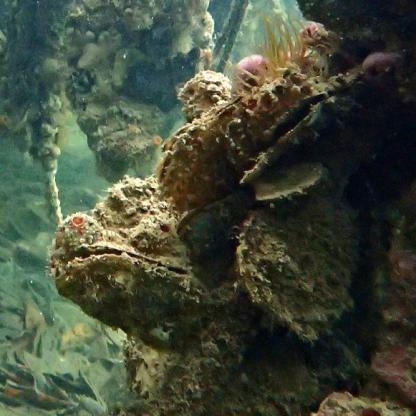Oyster- Indeterminate: (155, 70, 324, 213), (54, 242, 214, 350)
Oyster-Closed: (239, 192, 359, 325), (254, 162, 333, 207), (318, 389, 414, 416)
Oyster-Open: (239, 66, 367, 191)
